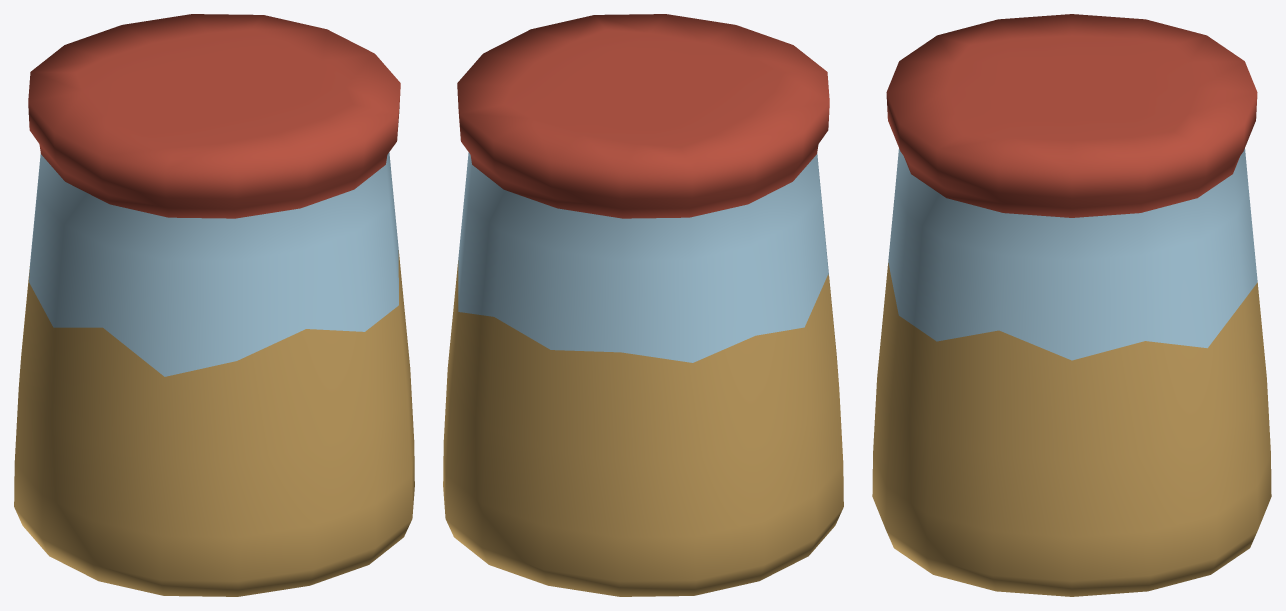
Rendered from Jar.fbx.
3 views of the same model, side by side, from view 1: azimuth 30°, elevation 25°; view 2: azimuth 150°, elevation 25°; view 3: azimuth 270°, elevation 25° (orthographic).
Parts seen in each view (by area): view 1: Jar; view 2: Jar; view 3: Jar.
Boxes of the visible parts, x1,y1,x2,y2 form: Jar: [14, 14, 414, 596]; Jar: [443, 14, 843, 596]; Jar: [872, 14, 1271, 596].
Bounding box in the file's own units: 14.89 × 17.88 × 14.89.
